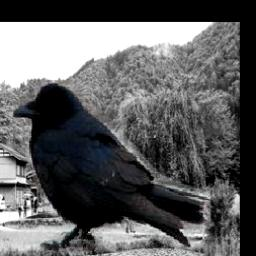Crow: (12, 80, 209, 251)
